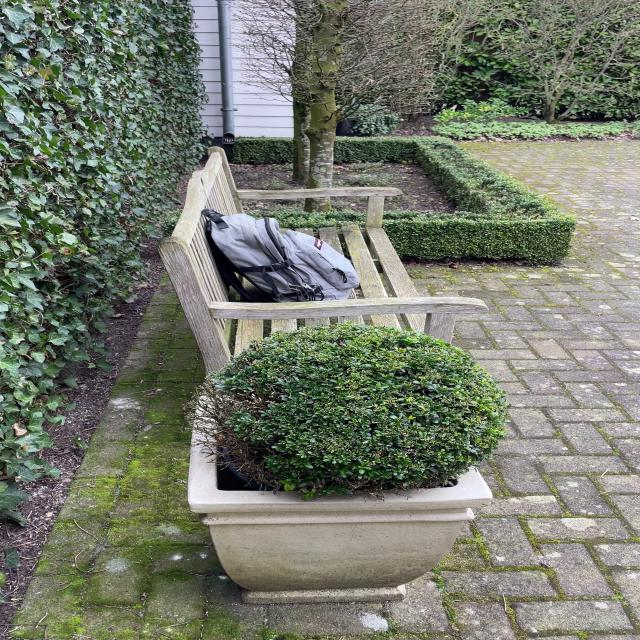backpack: (195, 208, 366, 303)
